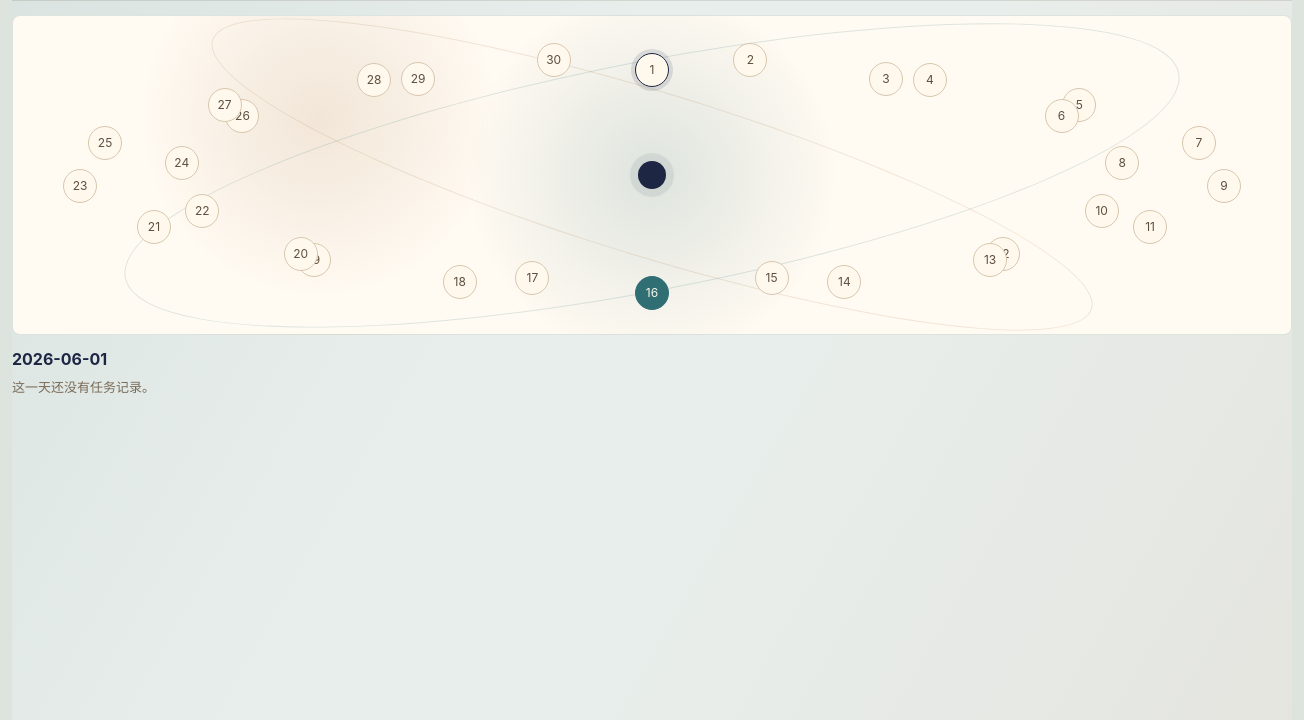
Test: MonthlyGalaxyMap › shows that date tasks after clicking a node
Step 1. Click the button named "2026-06-16 完成 1/2" → (652, 293), box [635,276,669,310]
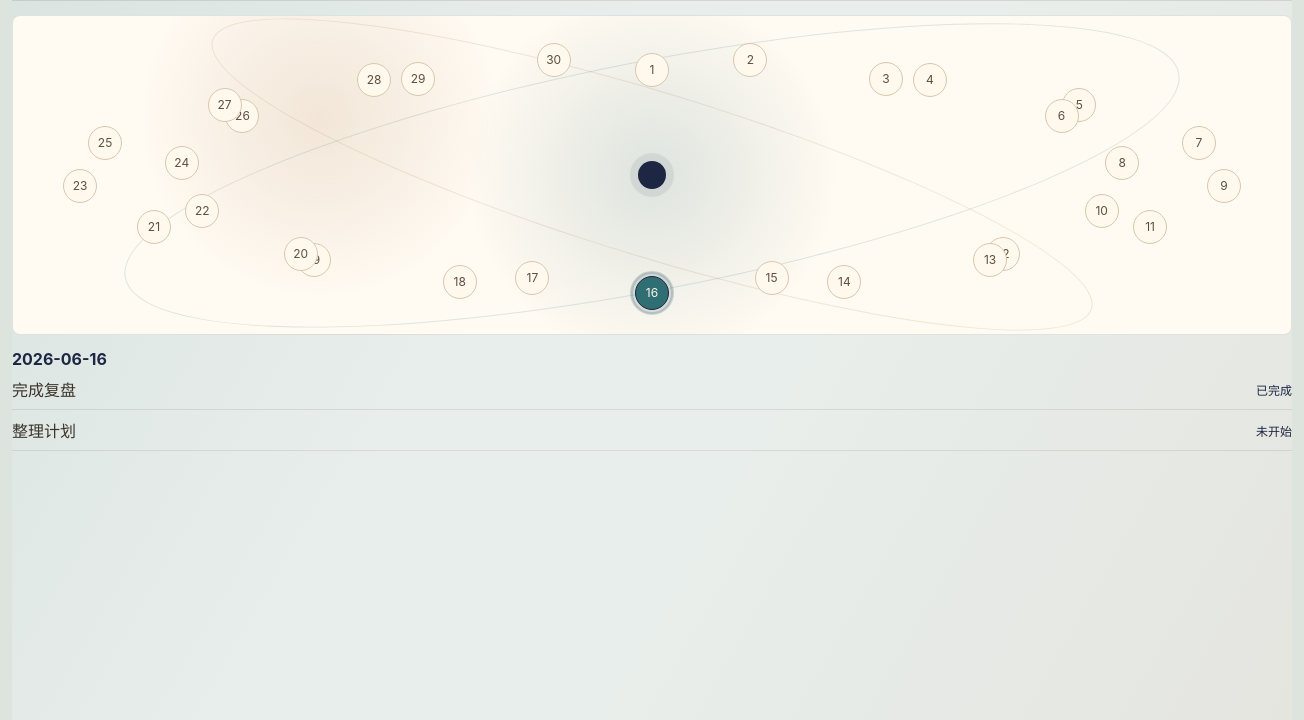
Expected: the heading "2026-06-16" is shown, [12,349,107,369]
Expected: the text "完成复盘" is shown, [12,377,76,401]
Expected: the text "整理计划" is shown, [12,418,76,442]
